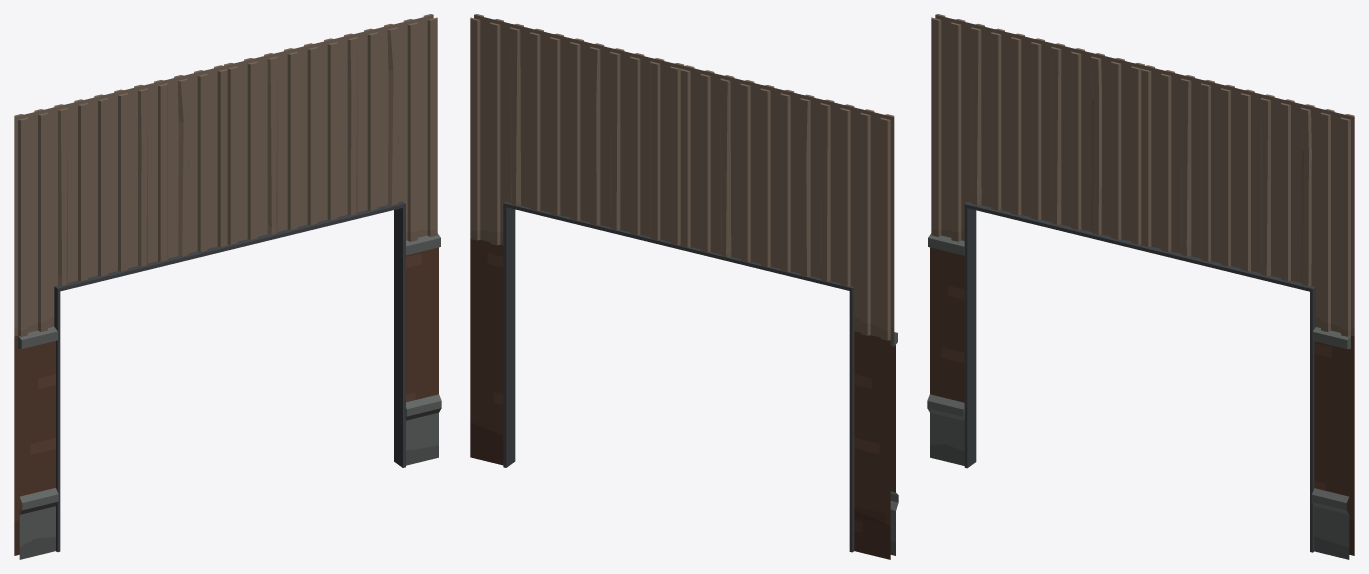
Rendered from SM_Bld_Wall_Metal_Door_Slide_02.obj.
The picture shows the model from 3 angles, left to right: view 1: azimuth 30°, elevation 25°; view 2: azimuth 150°, elevation 25°; view 3: azimuth 330°, elevation 25°; orthographic projection.
Visible parts, largest first — view 1: SM_Bld_Wall_Metal_Door_Slide_02_0, SM_Bld_Wall_Metal_Door_Slide_02_1; view 2: SM_Bld_Wall_Metal_Door_Slide_02_0, SM_Bld_Wall_Metal_Door_Slide_02_1; view 3: SM_Bld_Wall_Metal_Door_Slide_02_0, SM_Bld_Wall_Metal_Door_Slide_02_1.
Part boxes in pixels (x1=…): SM_Bld_Wall_Metal_Door_Slide_02_0: x1=14, y1=14, x2=440, y2=552; SM_Bld_Wall_Metal_Door_Slide_02_1: x1=14, y1=247, x2=441, y2=559; SM_Bld_Wall_Metal_Door_Slide_02_0: x1=470, y1=14, x2=897, y2=552; SM_Bld_Wall_Metal_Door_Slide_02_1: x1=470, y1=239, x2=898, y2=559; SM_Bld_Wall_Metal_Door_Slide_02_0: x1=928, y1=14, x2=1354, y2=552; SM_Bld_Wall_Metal_Door_Slide_02_1: x1=927, y1=247, x2=1354, y2=559.
Size of the model in its own units: 6 by 6 by 0.2436.
Materials: 2 (2 with a texture image).
